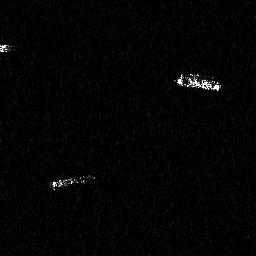ship: (172, 68, 223, 93), (47, 173, 99, 193)
